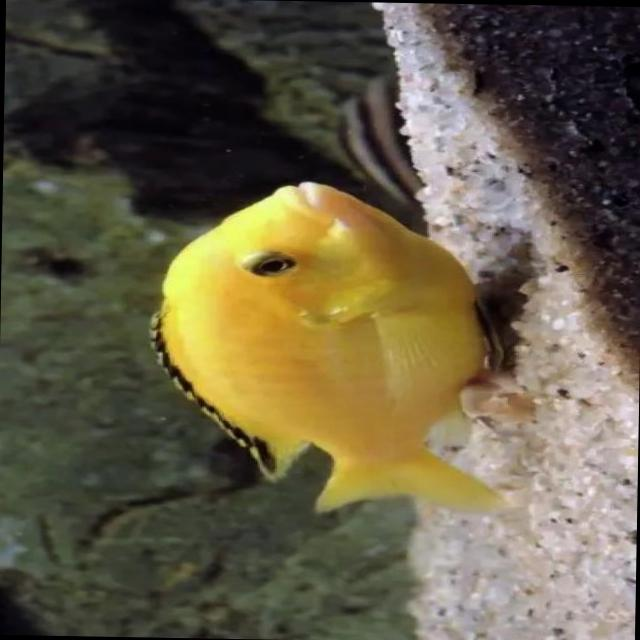YellowCichlid: (142, 154, 534, 527)
